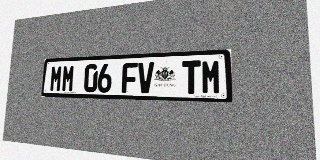0: (83, 64, 98, 92)
6: (97, 63, 112, 93)
F: (122, 62, 138, 93)
M: (201, 59, 221, 95), (49, 65, 63, 92), (61, 65, 75, 92)
T: (182, 60, 201, 94)
V: (137, 62, 154, 93)
